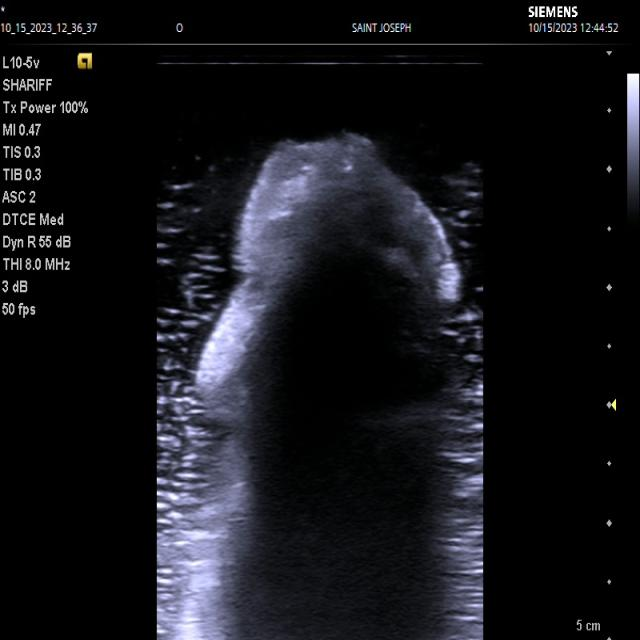tissue: (198, 132, 483, 640)
